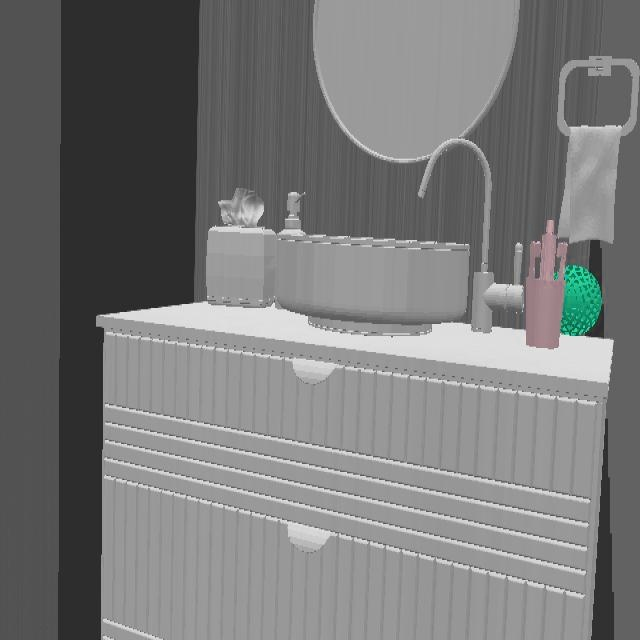washbasin: (274, 229, 472, 327), (417, 139, 494, 333)
